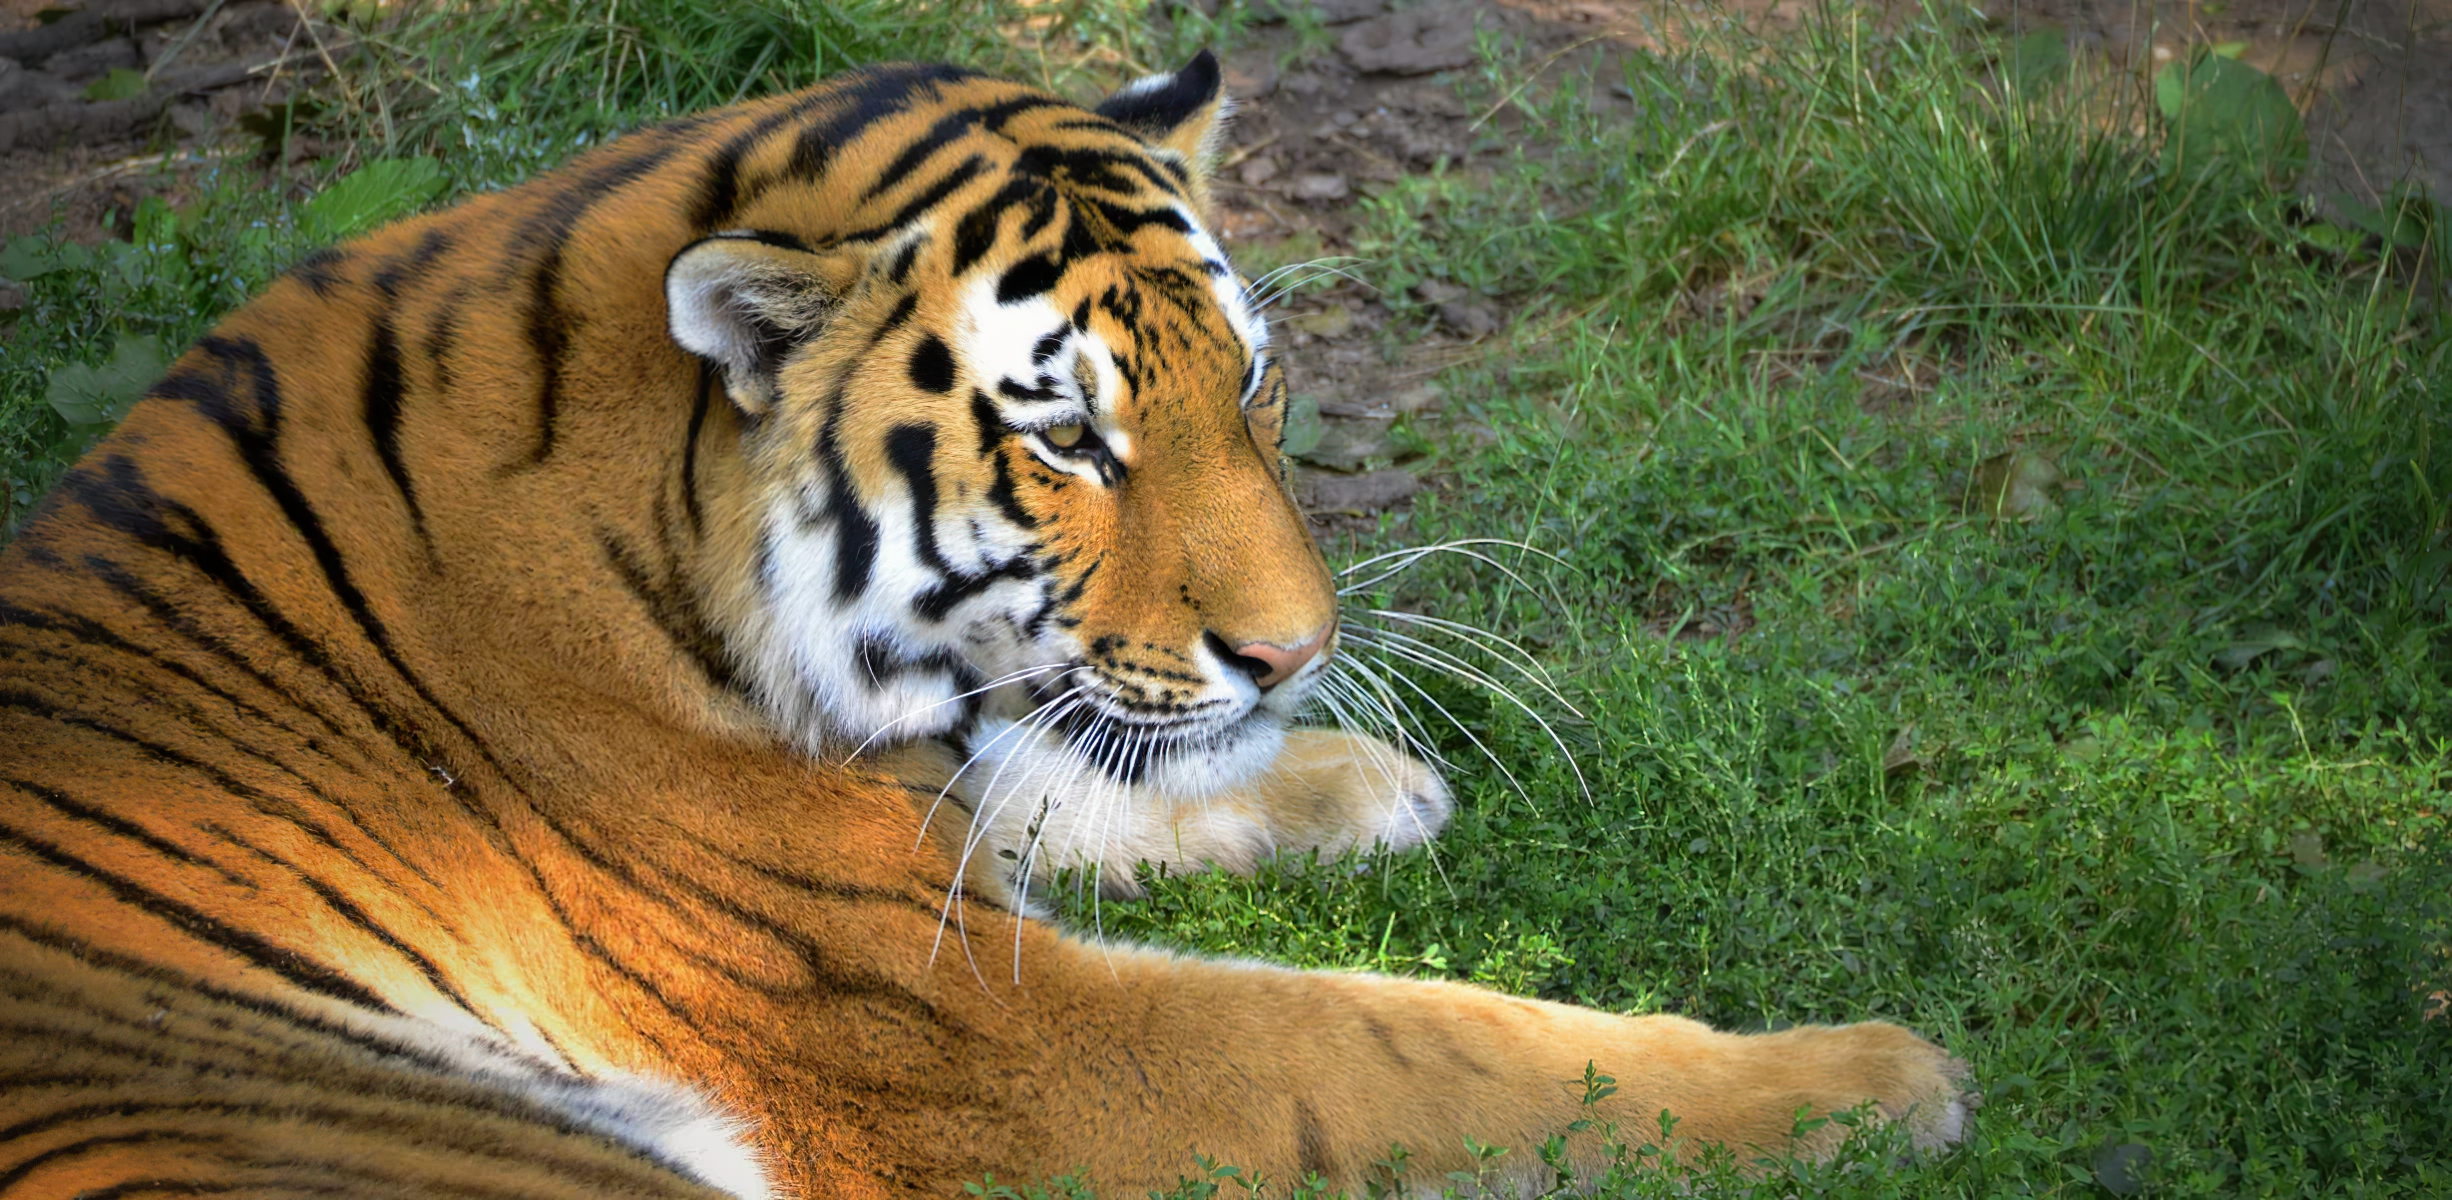tiger: (80, 49, 1970, 1200)
